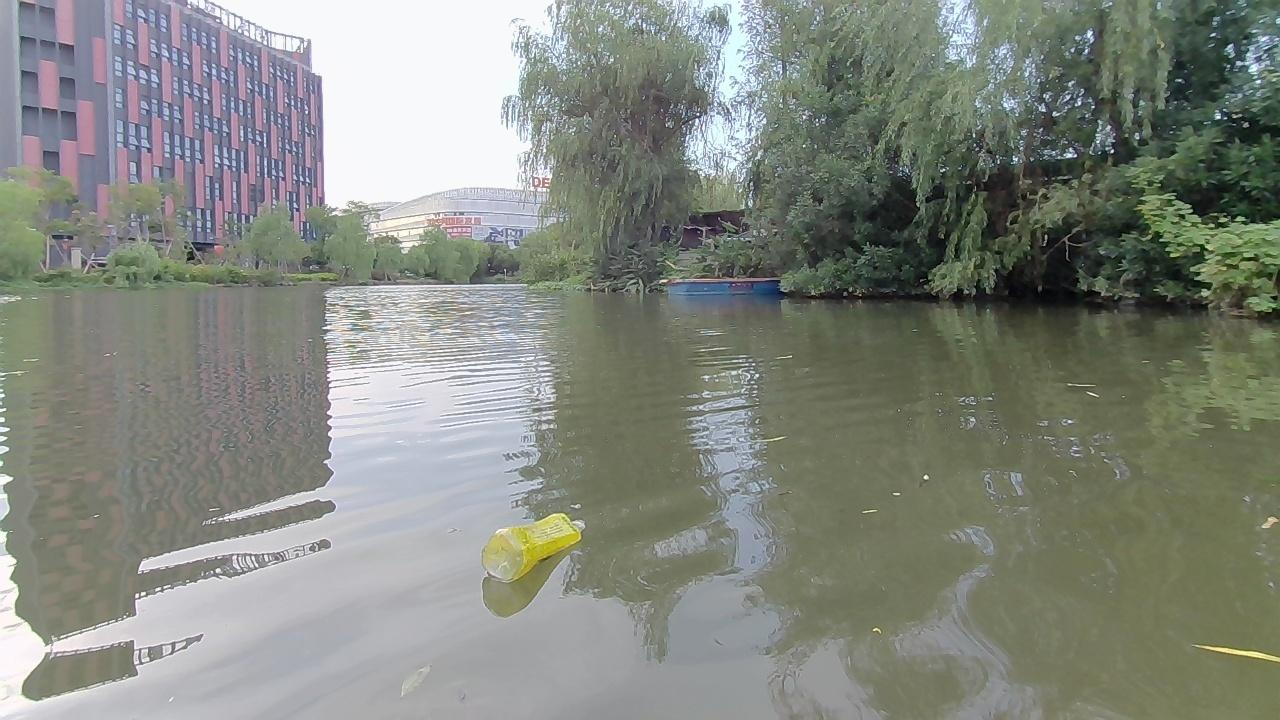bottle: (469, 505, 591, 578)
